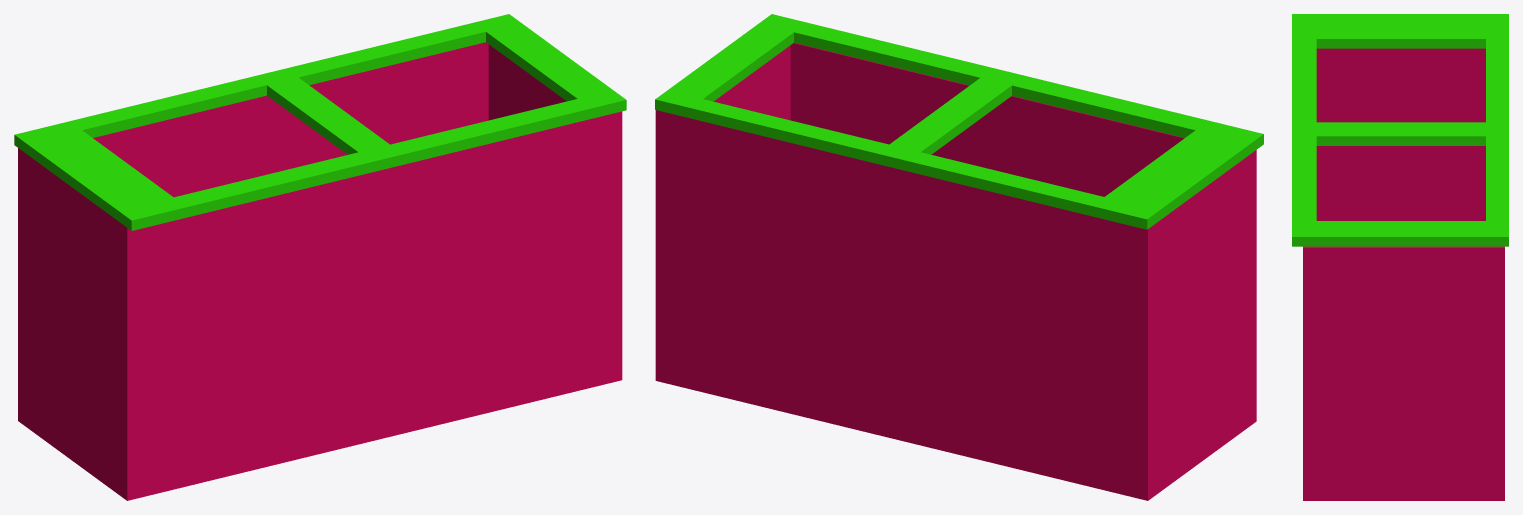
The model's file is Kitchen_Cupboard_06_Lod0.fbx.
3 views of the same model, side by side, from view 1: azimuth 30°, elevation 25°; view 2: azimuth 150°, elevation 25°; view 3: azimuth 270°, elevation 25° (orthographic). The views are drawn at different scales.
Parts seen in each view (by area): view 1: Kitchen_Cupboard_06_Lod0; view 2: Kitchen_Cupboard_06_Lod0; view 3: Kitchen_Cupboard_06_Lod0.
Boxes of the visible parts, left/top/right/bottom form: Kitchen_Cupboard_06_Lod0: left=14, top=14, right=626, bottom=500; Kitchen_Cupboard_06_Lod0: left=655, top=14, right=1263, bottom=500; Kitchen_Cupboard_06_Lod0: left=1292, top=14, right=1508, bottom=500.
Bounding box in the file's own units: 170 × 93.38 × 69.72.
